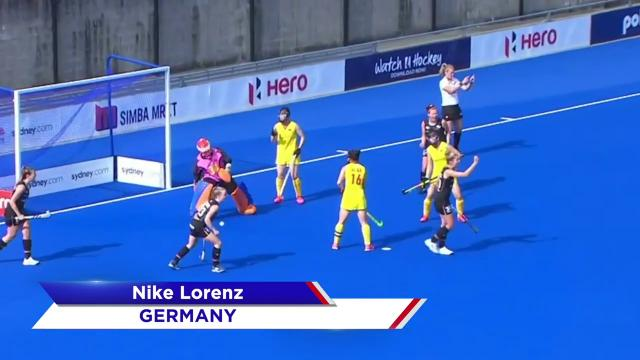ball: (218, 215, 228, 227)
